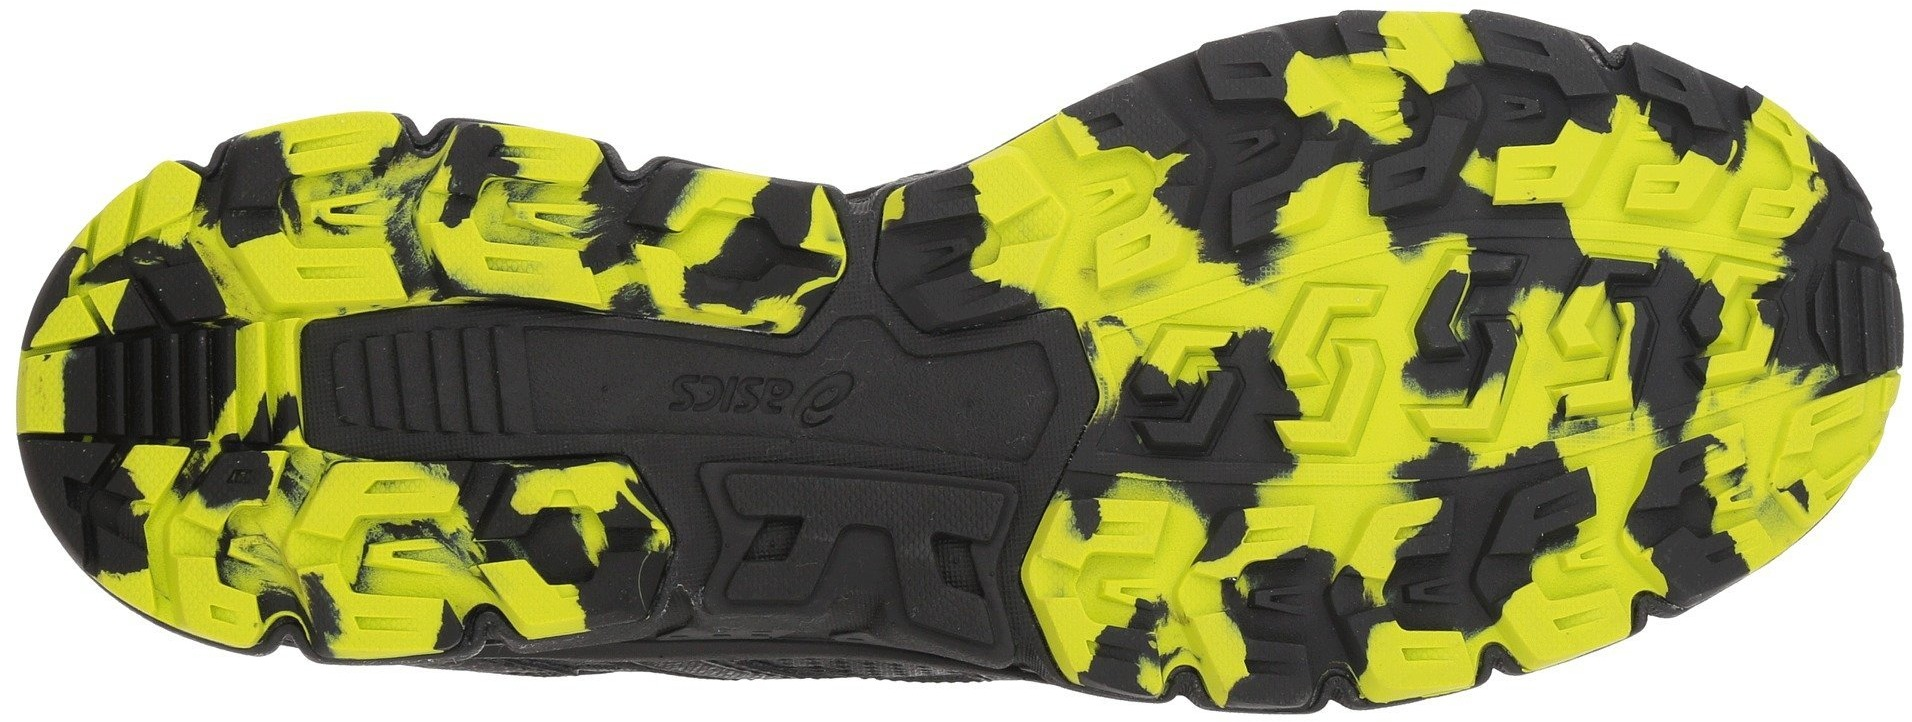chevron: (1393, 220, 1550, 448), (1547, 248, 1673, 428), (299, 177, 398, 237), (1216, 121, 1286, 172)
line: (100, 321, 223, 452)
quad: (363, 324, 505, 465), (100, 321, 223, 452)
text: (755, 352, 862, 441), (663, 343, 758, 435)
